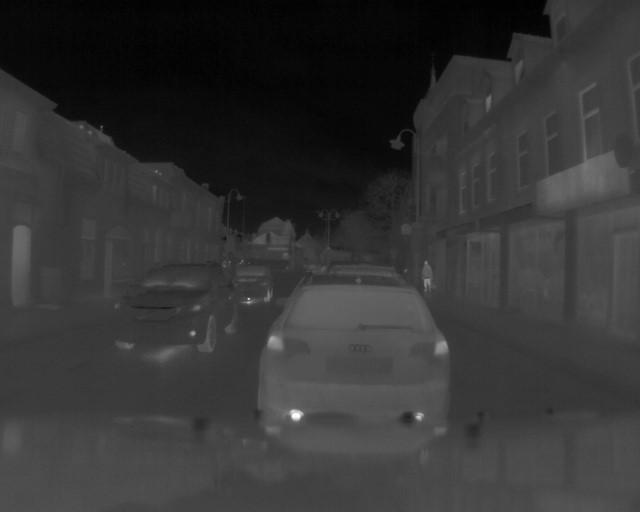car: (265, 272, 452, 427), (108, 262, 241, 350), (239, 263, 269, 301)
person: (419, 259, 435, 291)
